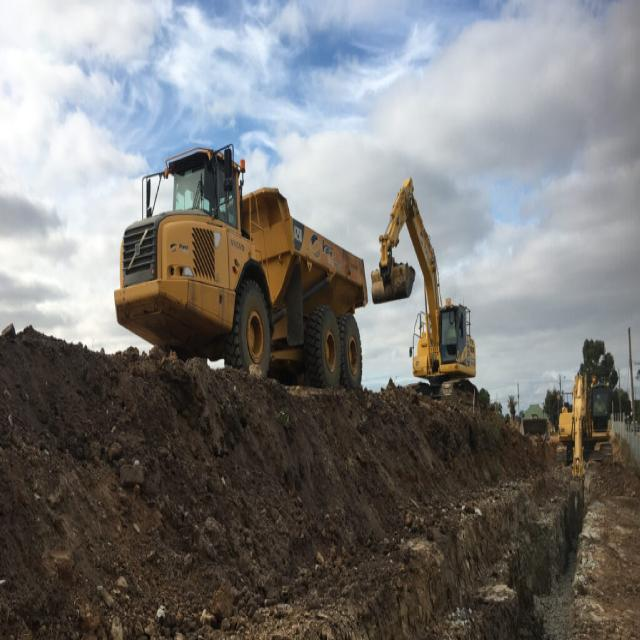dump_truck: (110, 134, 370, 408)
excavator: (369, 146, 502, 428)
